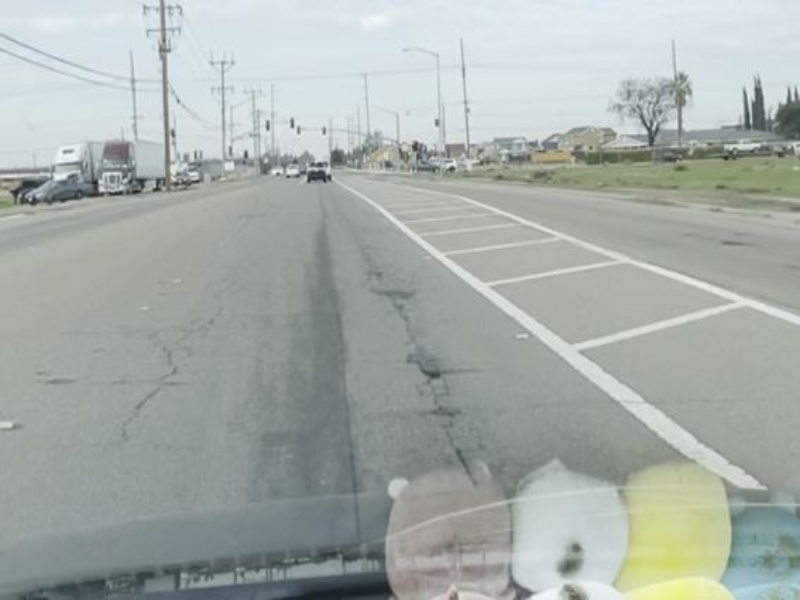pothole: (415, 363, 449, 383)
